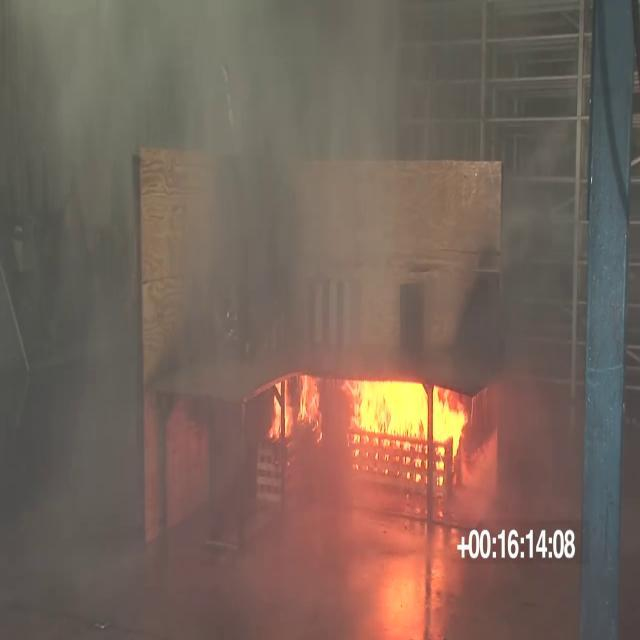Fire: (270, 378, 482, 512)
Smoke: (44, 0, 480, 325)
